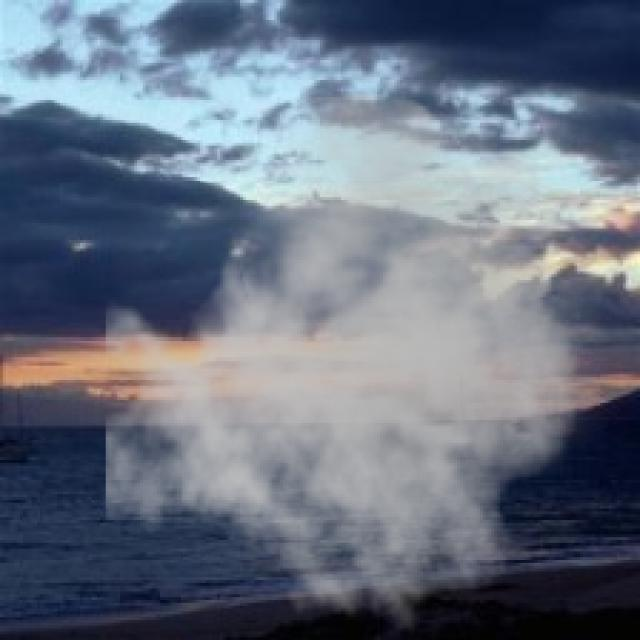smoke: (106, 91, 628, 634)
